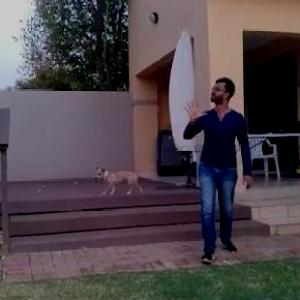follow_hand: (180, 95, 209, 123)
